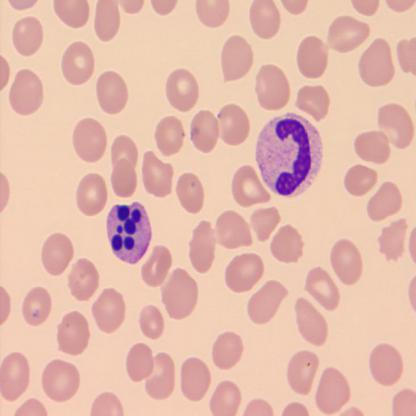Band Neutrophil: (252, 108, 324, 202)
